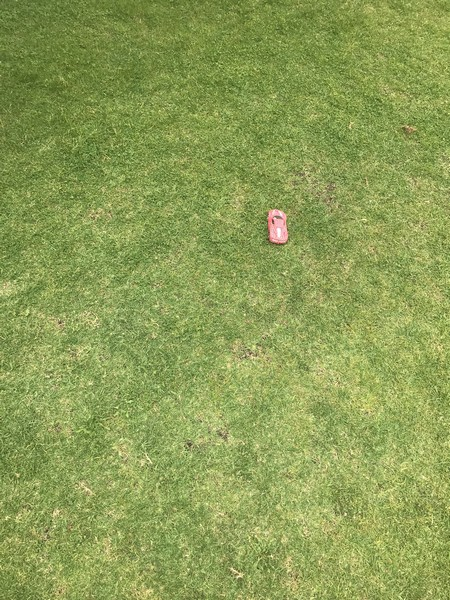RC: (266, 206, 290, 245)
